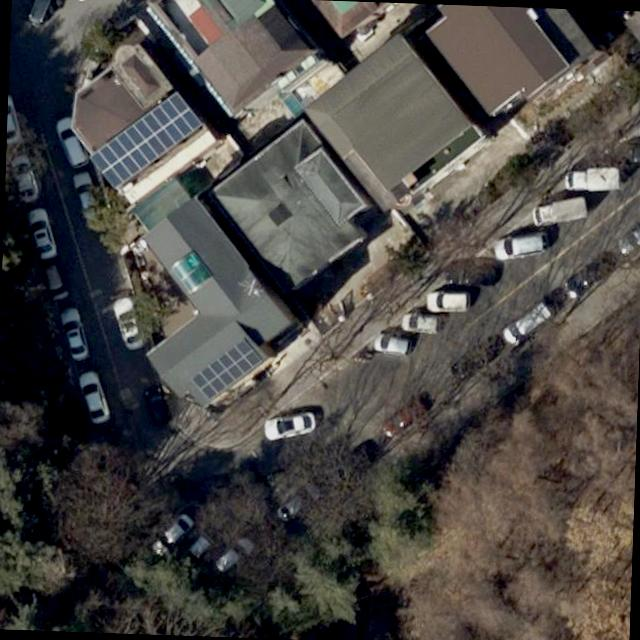solar: (86, 87, 207, 195), (189, 334, 265, 404)
